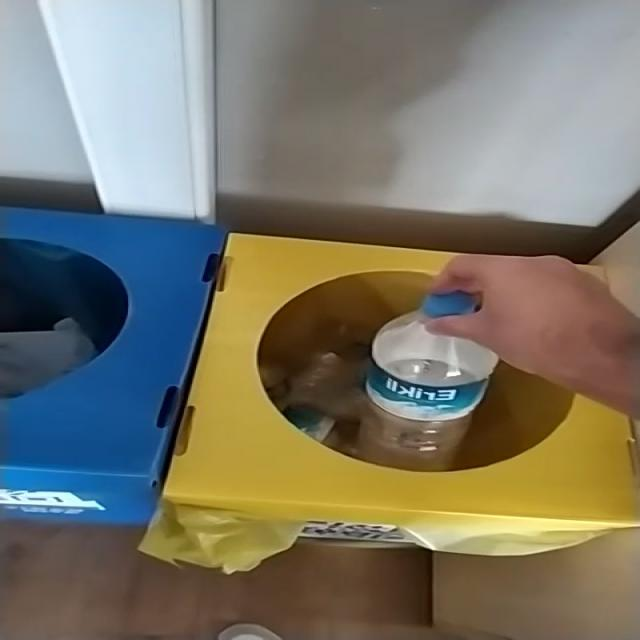plastic: (359, 292, 499, 472)
